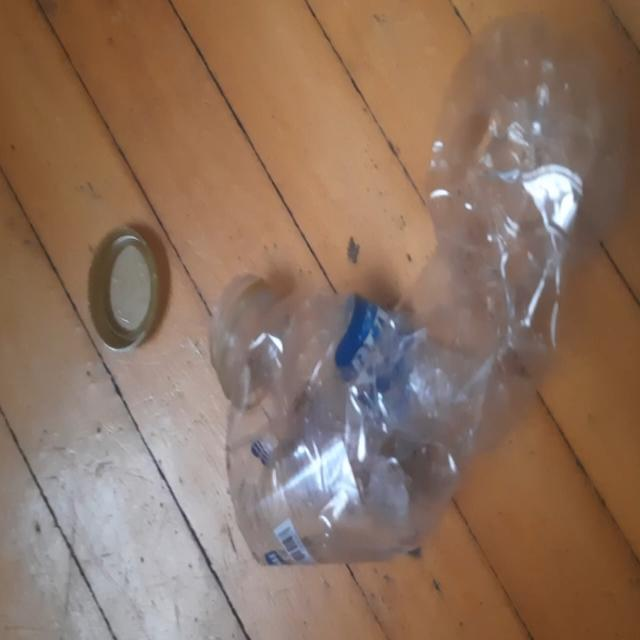Plastic: (210, 11, 606, 567)
